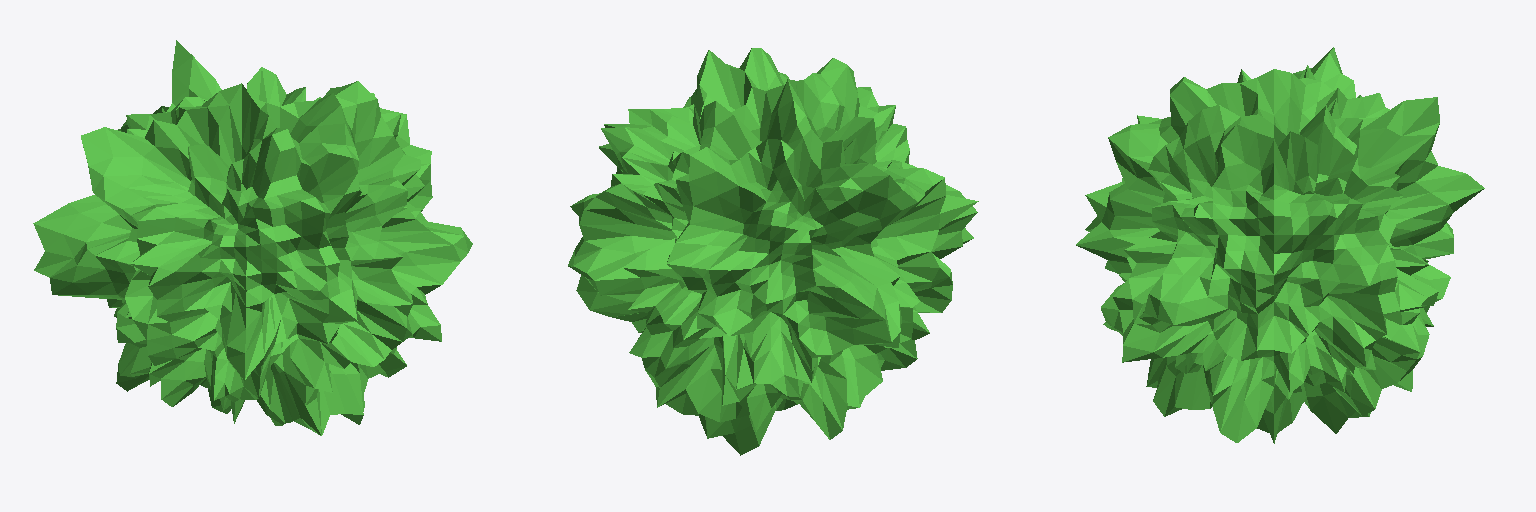
File: greenGlow.obj
3 renders of one model, left to right at view 1: azimuth 30°, elevation 25°; view 2: azimuth 150°, elevation 25°; view 3: azimuth 270°, elevation 25°, orthographic.
Parts seen in each view (by area): view 1: Cube_Cube.001; view 2: Cube_Cube.001; view 3: Cube_Cube.001.
Boxes of the visible parts, box(x1,y1,x2,y2) form: Cube_Cube.001: box(33, 40, 472, 435); Cube_Cube.001: box(568, 48, 978, 455); Cube_Cube.001: box(1076, 47, 1484, 443).
Bounding box in the file's own units: 2.35 × 2.32 × 2.41.